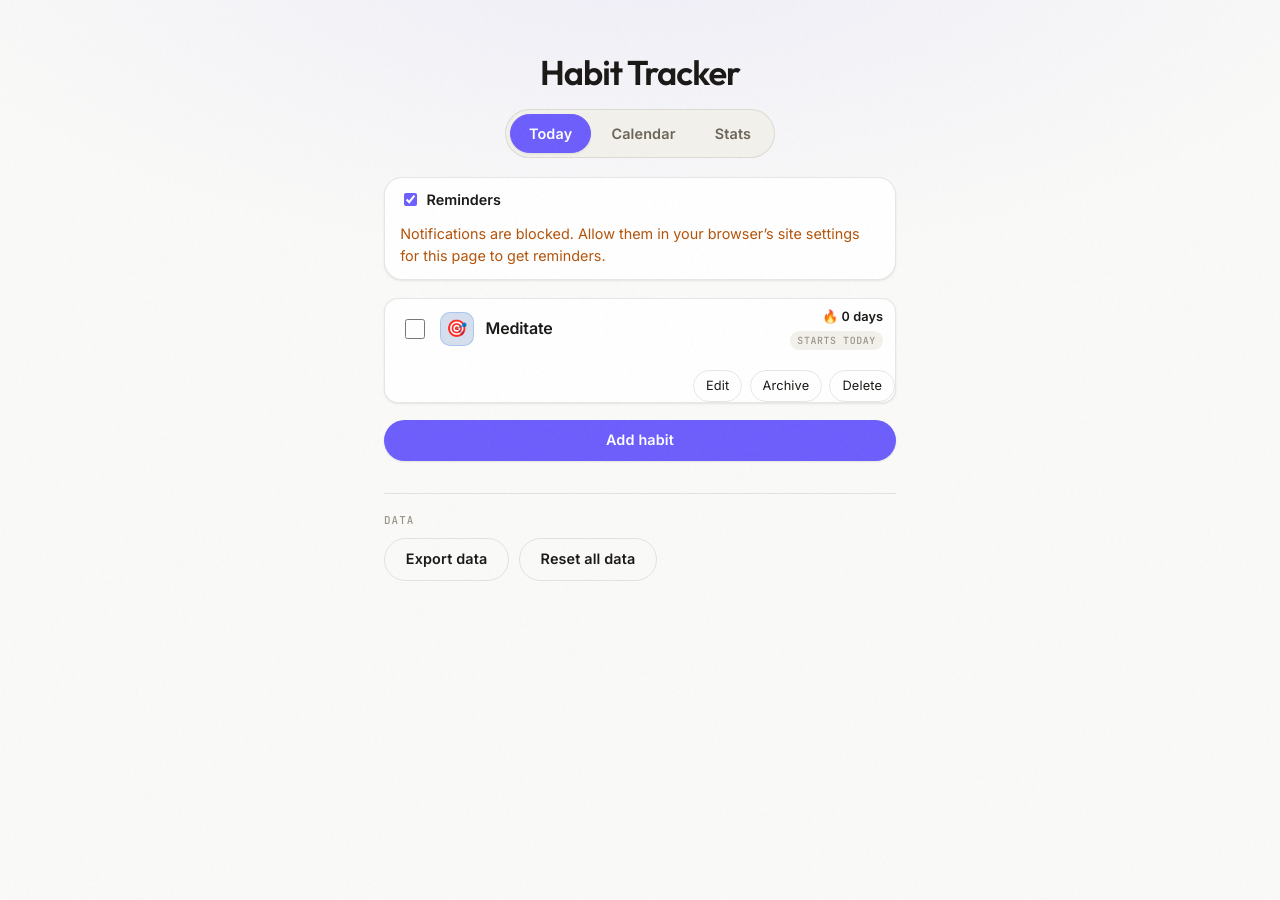
Test case: App data › resets to the empty state after confirmation
Click the button "Reset all data": (588, 560) top-left (519, 538), bottom-right (657, 581)
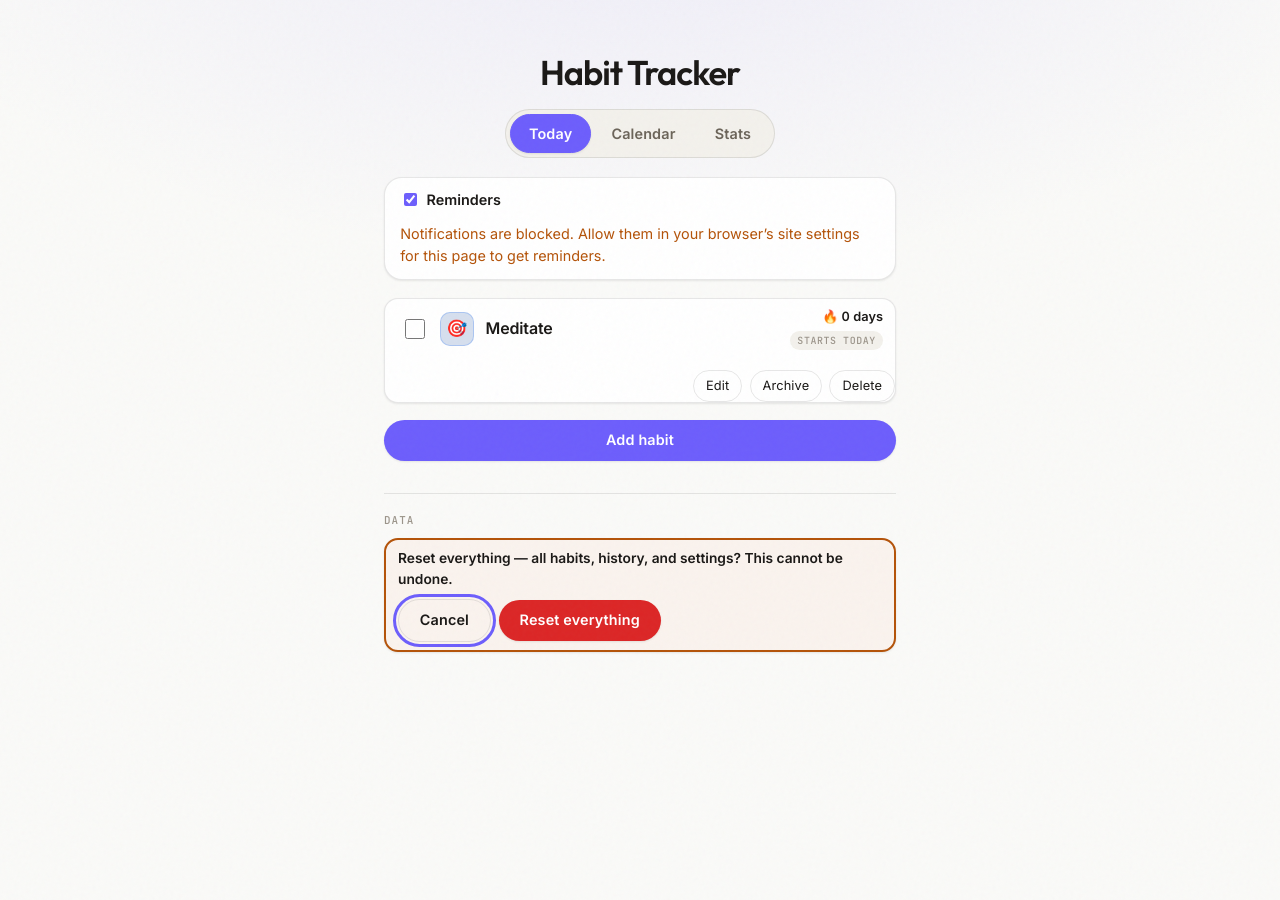
Click the button with aria-label "Confirm reset all data": (580, 620) top-left (499, 600), bottom-right (661, 641)
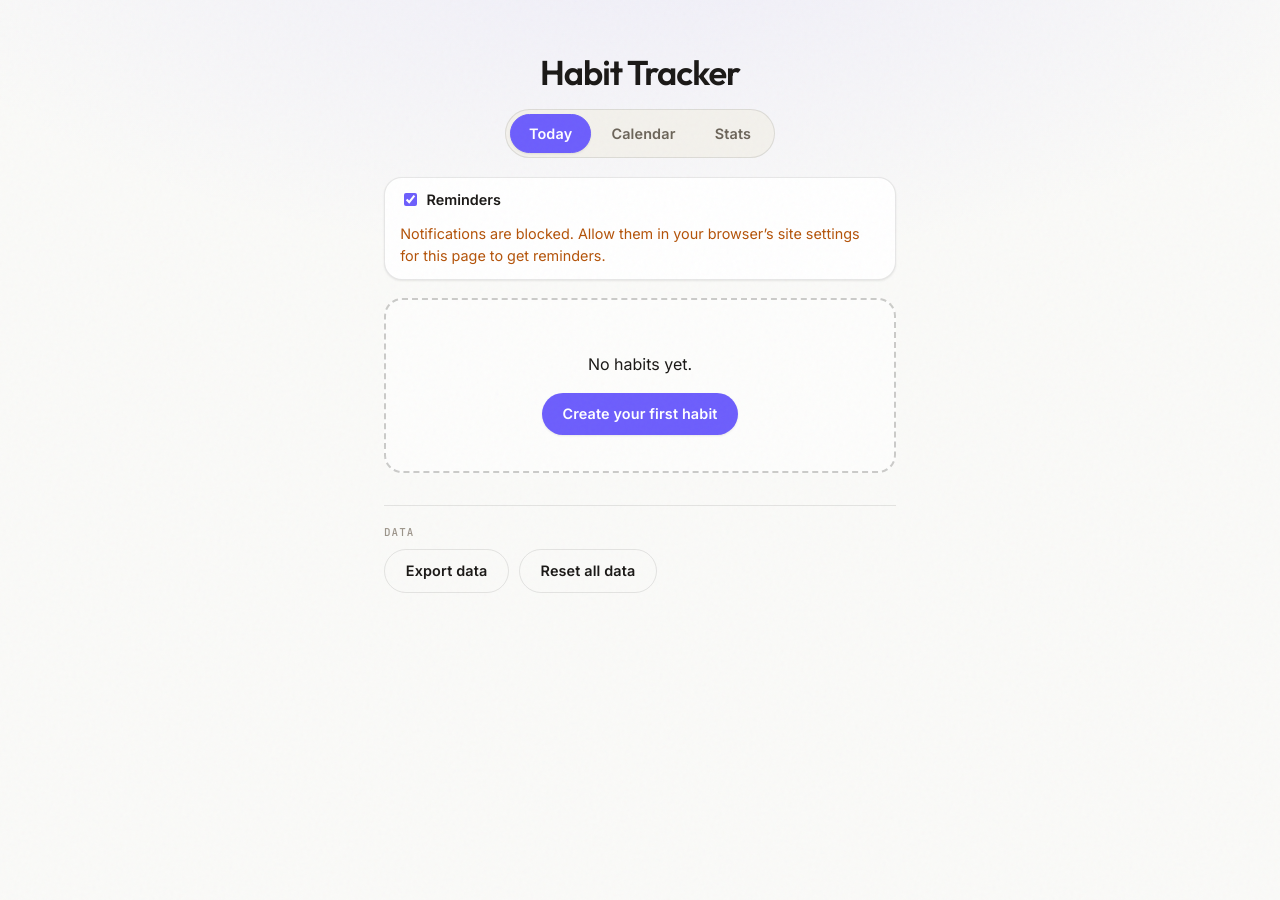
Expected: the text "No habits yet." is shown, top-left (588, 354), bottom-right (692, 374)
